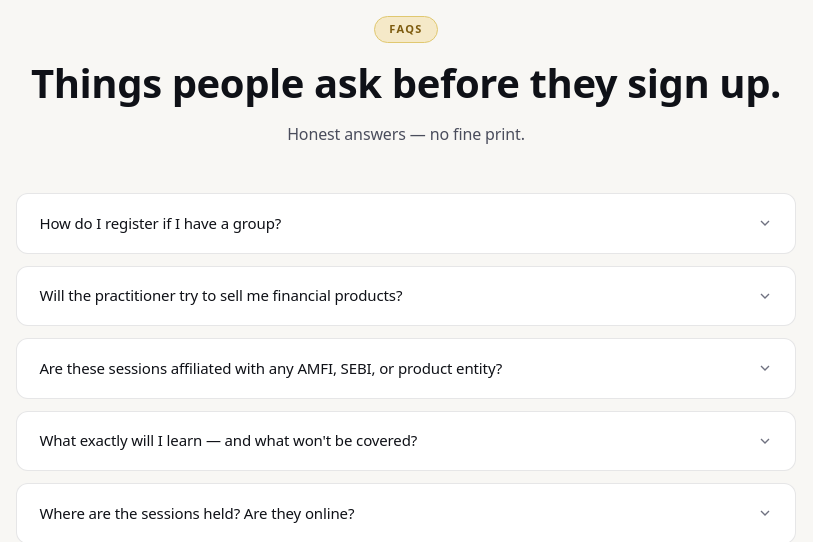
Scenario: Faqs › closes an open answer when its own question is clicked again
Click the button "How do I register if I have a group?". click: (160, 223)
box: [17,194,795,252]
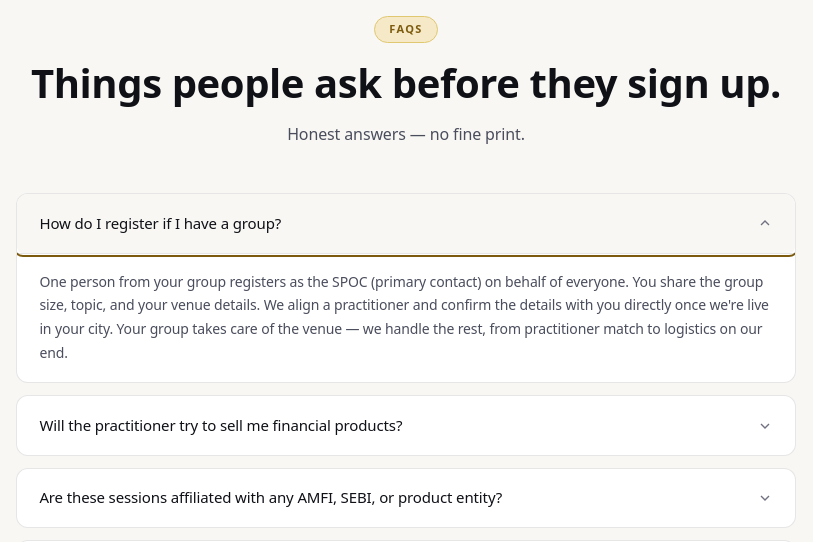
Click the button "How do I register if I have a group?". click: (160, 223)
box: [17,194,795,252]
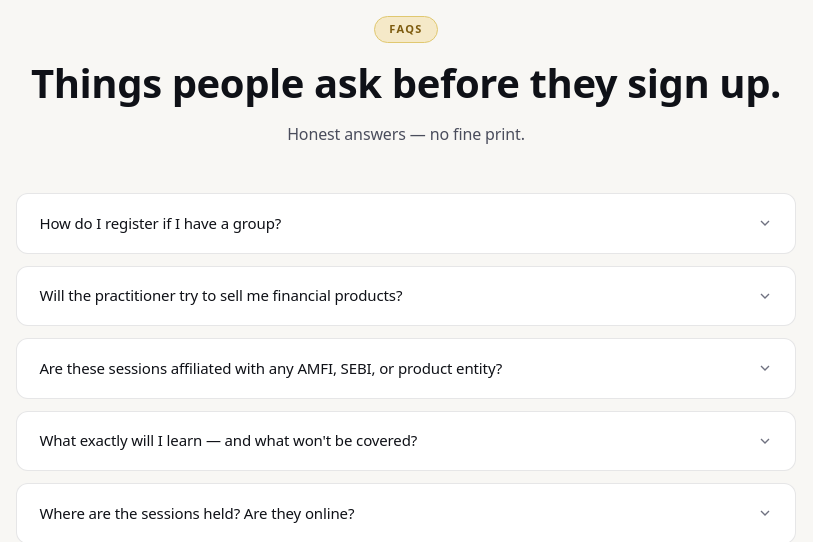
expect the button "How do I register if I have a group?" is collapsed: met, box [17,194,795,252]
